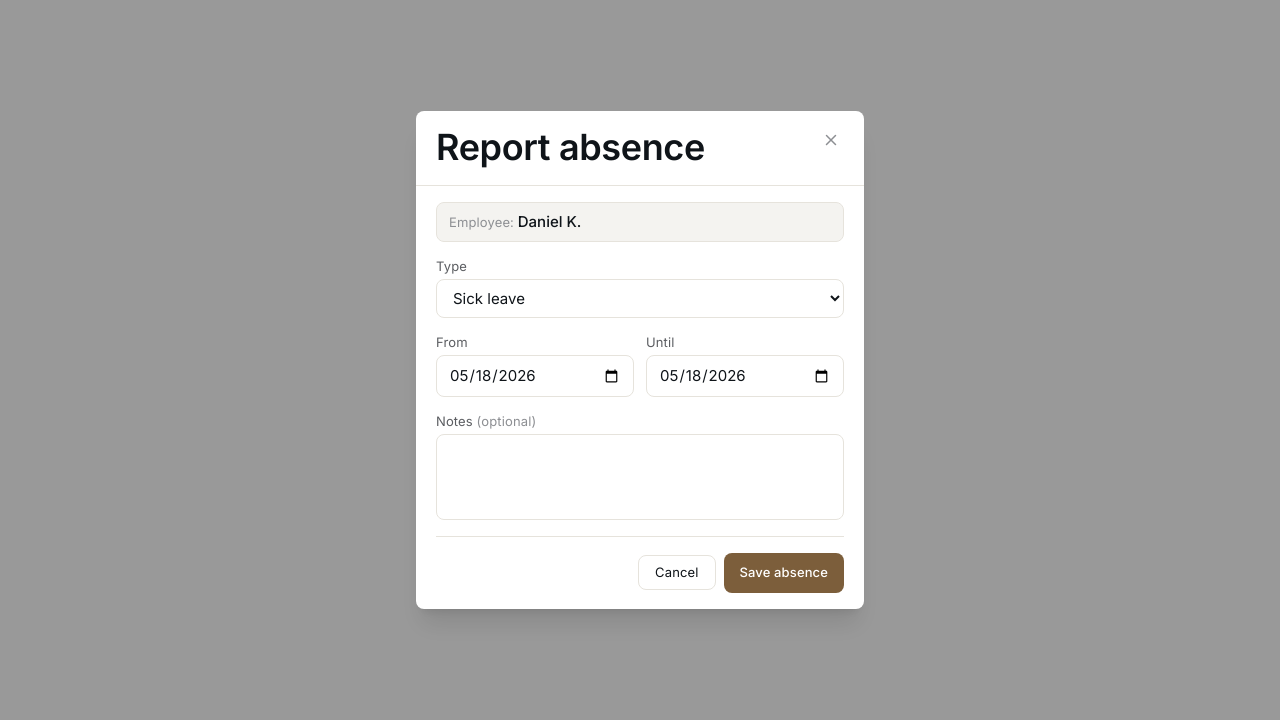
Test case: ReportAbsenceModal (ELE-204) › startDate > endDate → Submit disabled
Step 1. Type "2026-06-10" into the date field with test id "report-absence-start" → (535, 376), box [436,355,634,397]
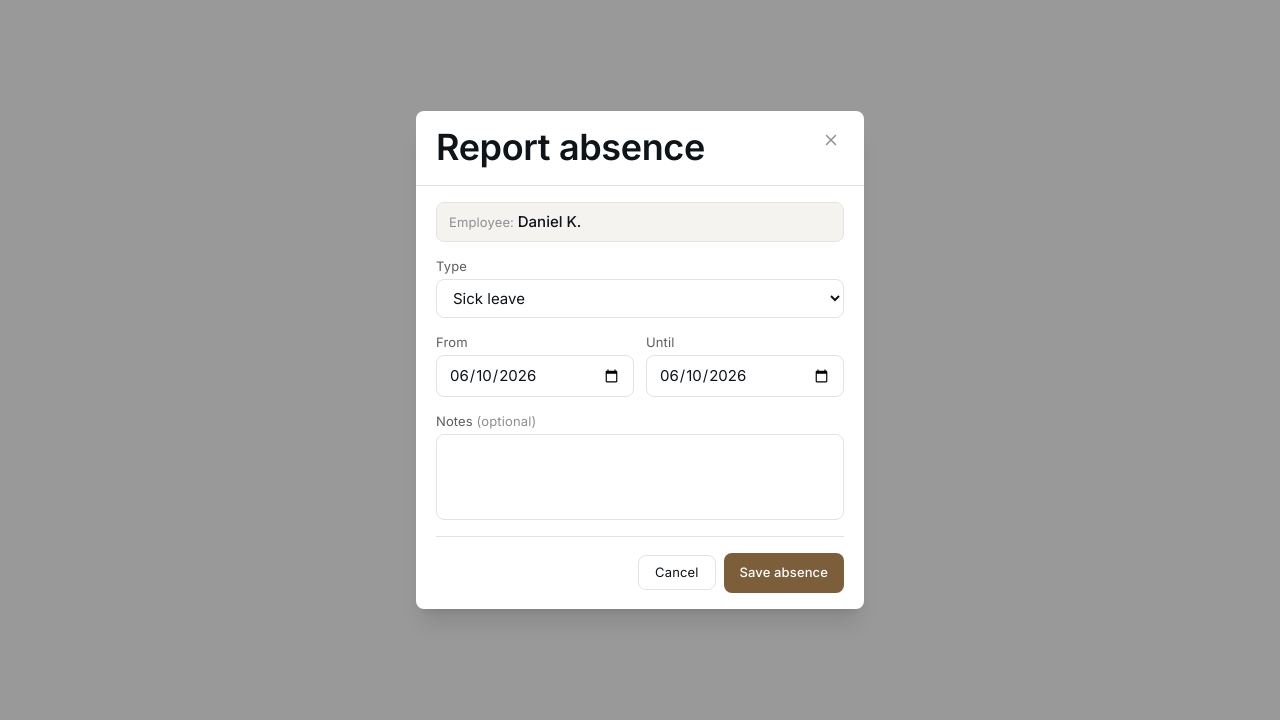
Step 2. Type "2026-06-05" into the date field with test id "report-absence-end" → (745, 376), box [646,355,844,397]
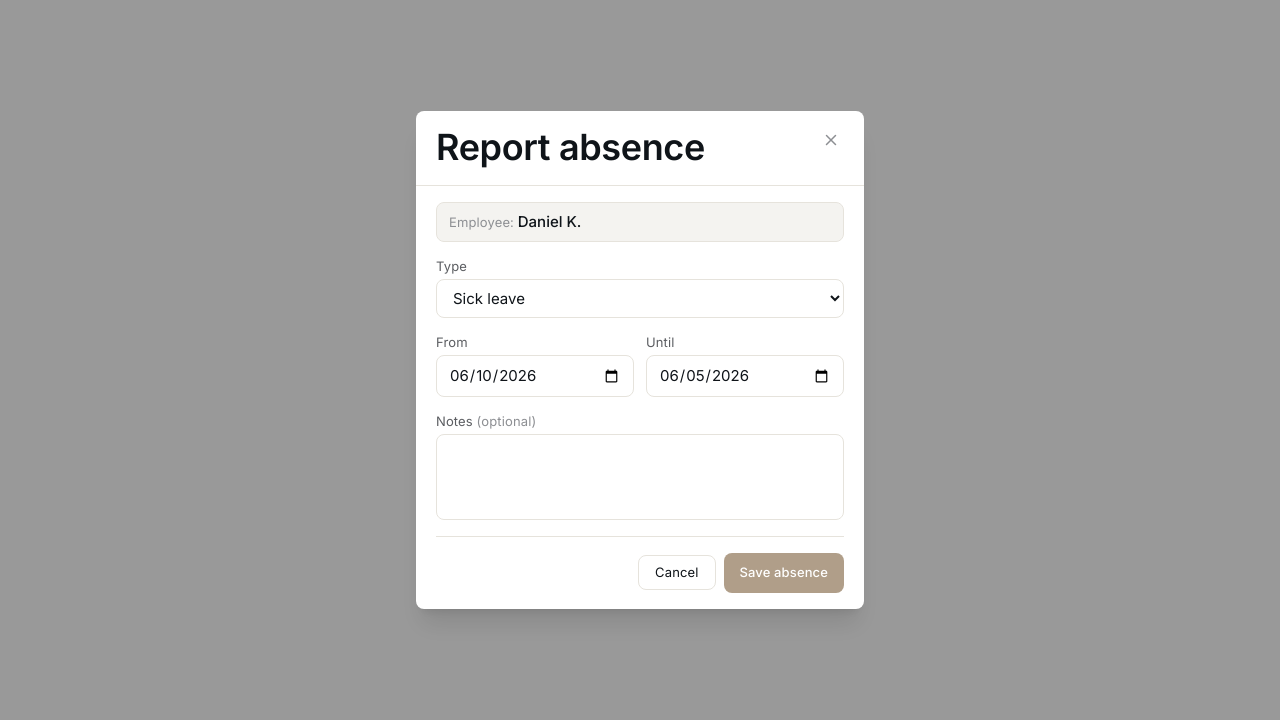
Now the button with test id "report-absence-submit" is disabled, box [724,553,844,593]
